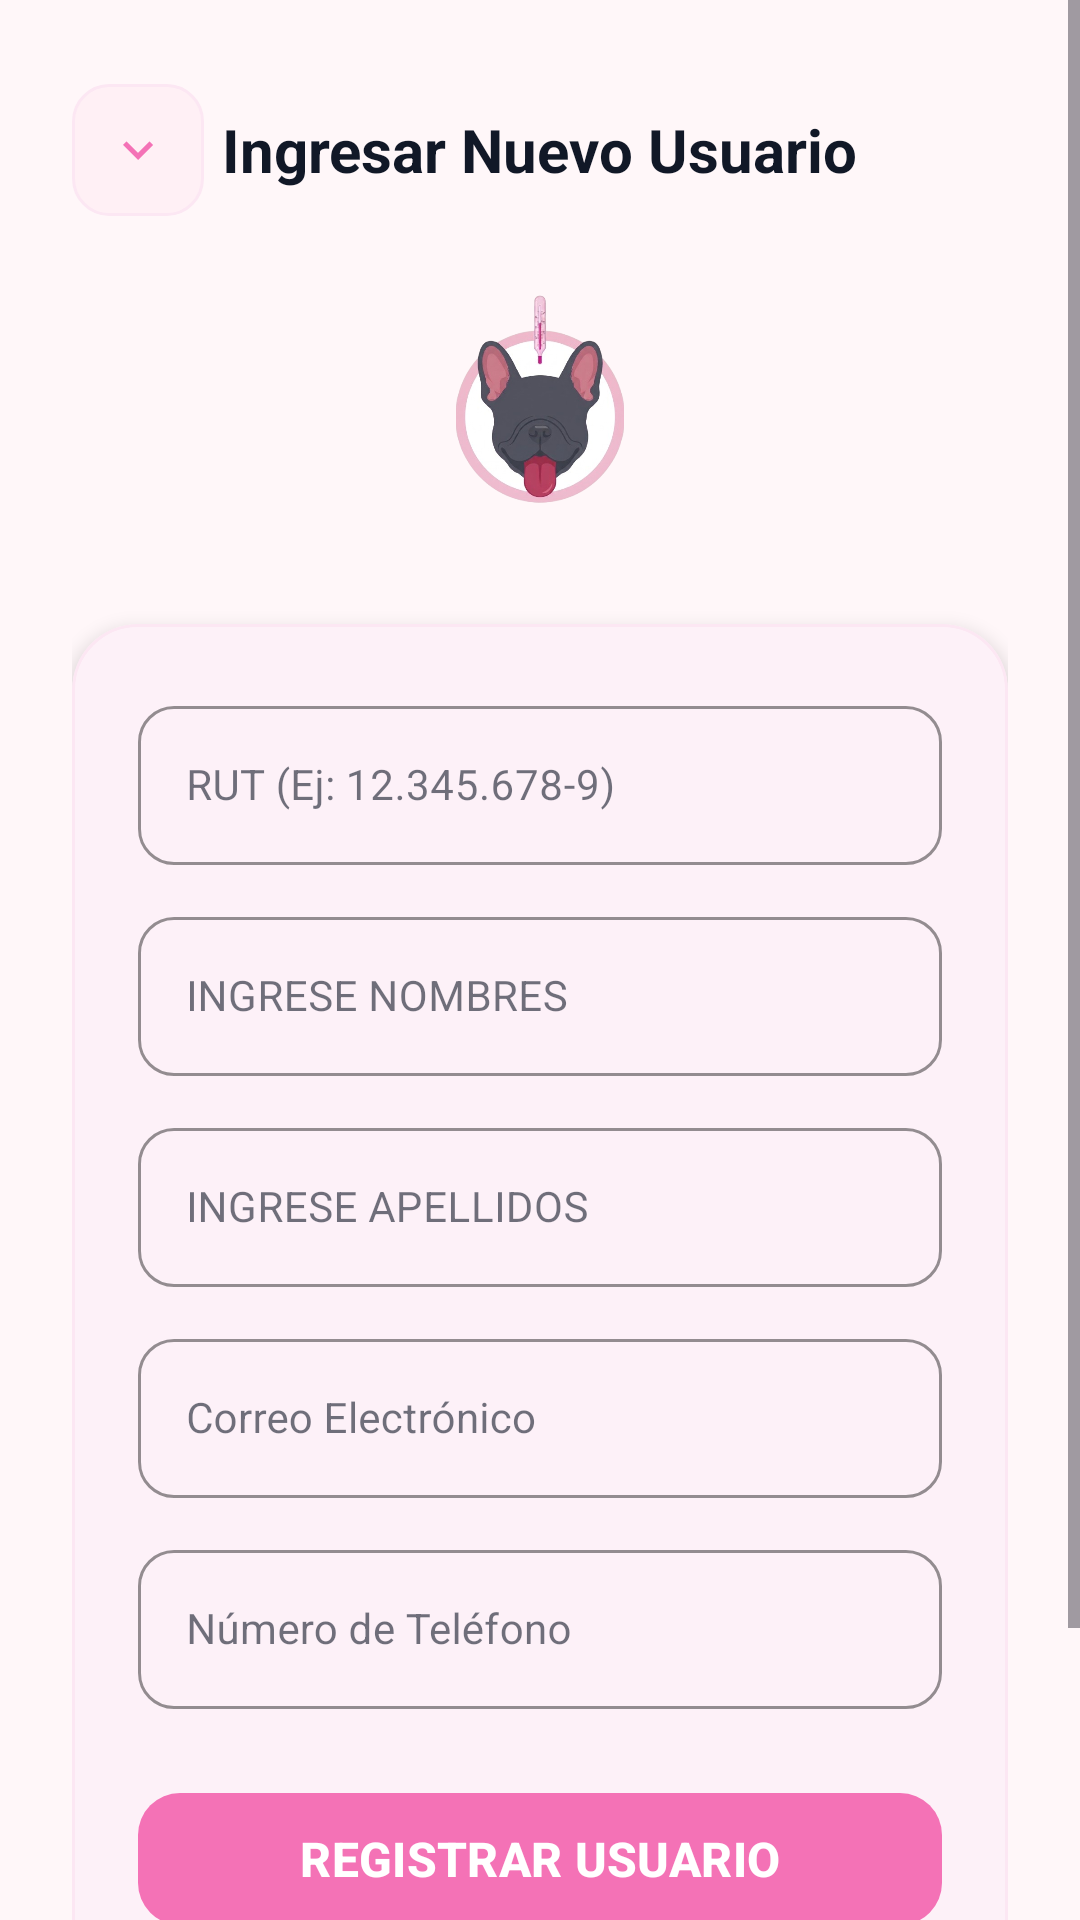

Screen size 1080x1920. Icon name, then its box in pixels as (x1, y1, x2, y2):
expand more: (123, 141, 153, 160)
imagenapp: (456, 296, 624, 503)
